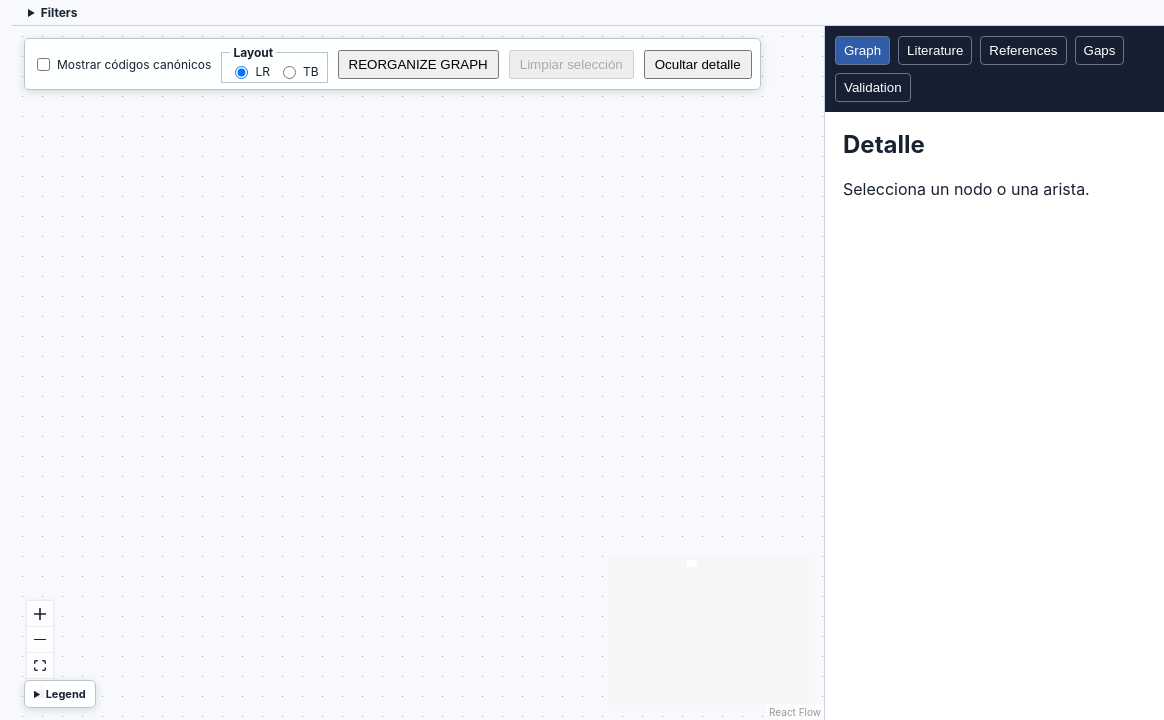
Test: GraphRenderer canonical simulator integration › reports validation status FAIL literally without recalculation
Click the button "Validation". click: (873, 88)
box: [835,73,911,102]
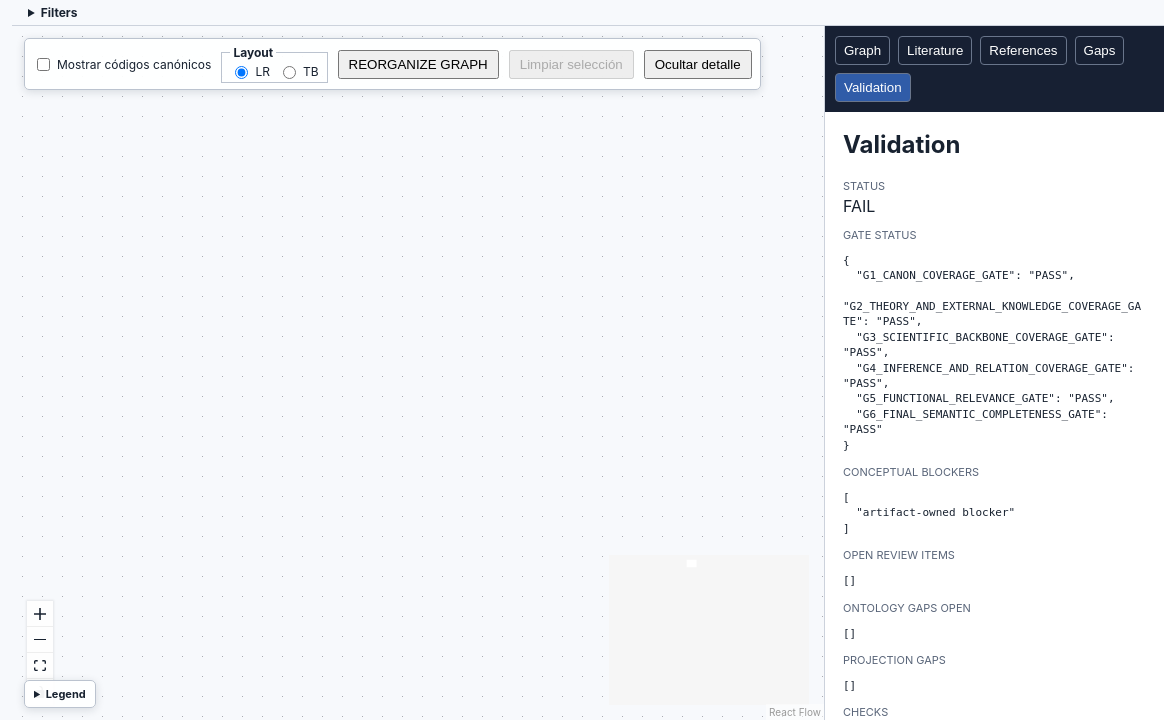
Check: the text "FAIL" is shown, box [843,196,875,216]
Check: the text "\"G1_CANON_COVERAGE_GATE\": \"PASS\"" is shown, box [843,254,1141,452]
Check: the text "[ \"artifact-owned blocker\" ]" is shown, box [843,491,1015,535]
